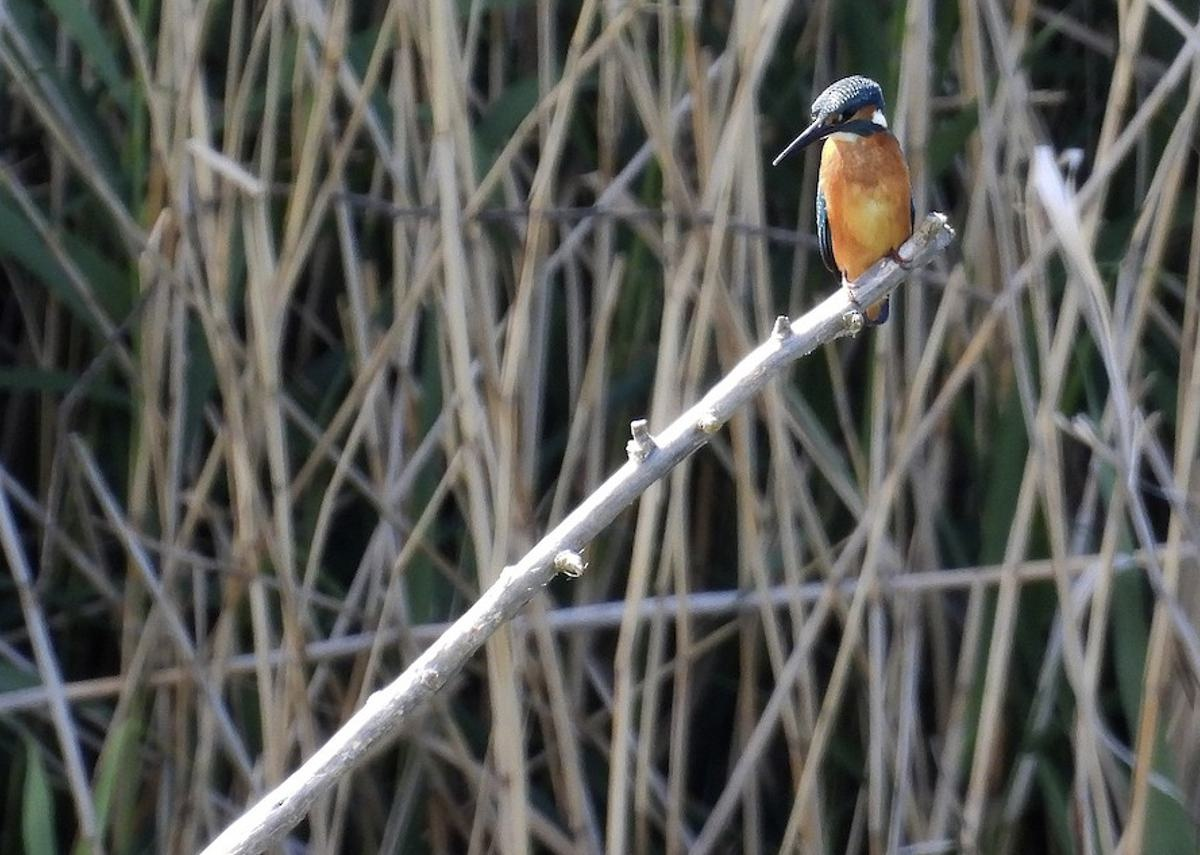kingfisher: (756, 60, 944, 345)
